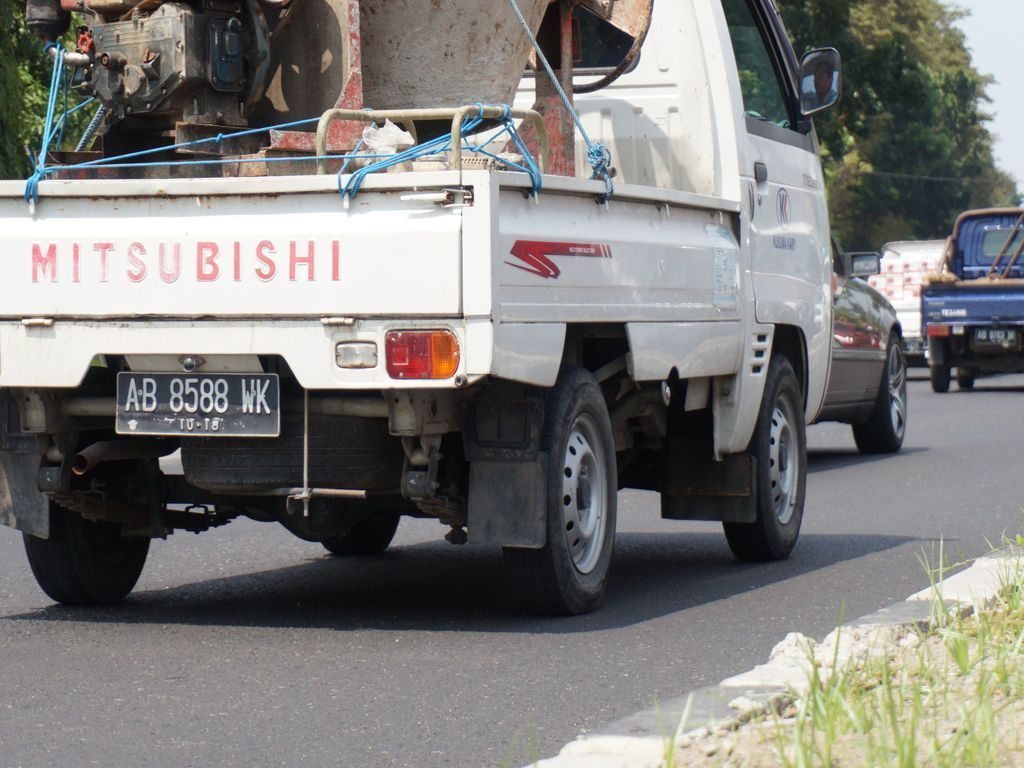plate: (121, 377, 276, 431)
